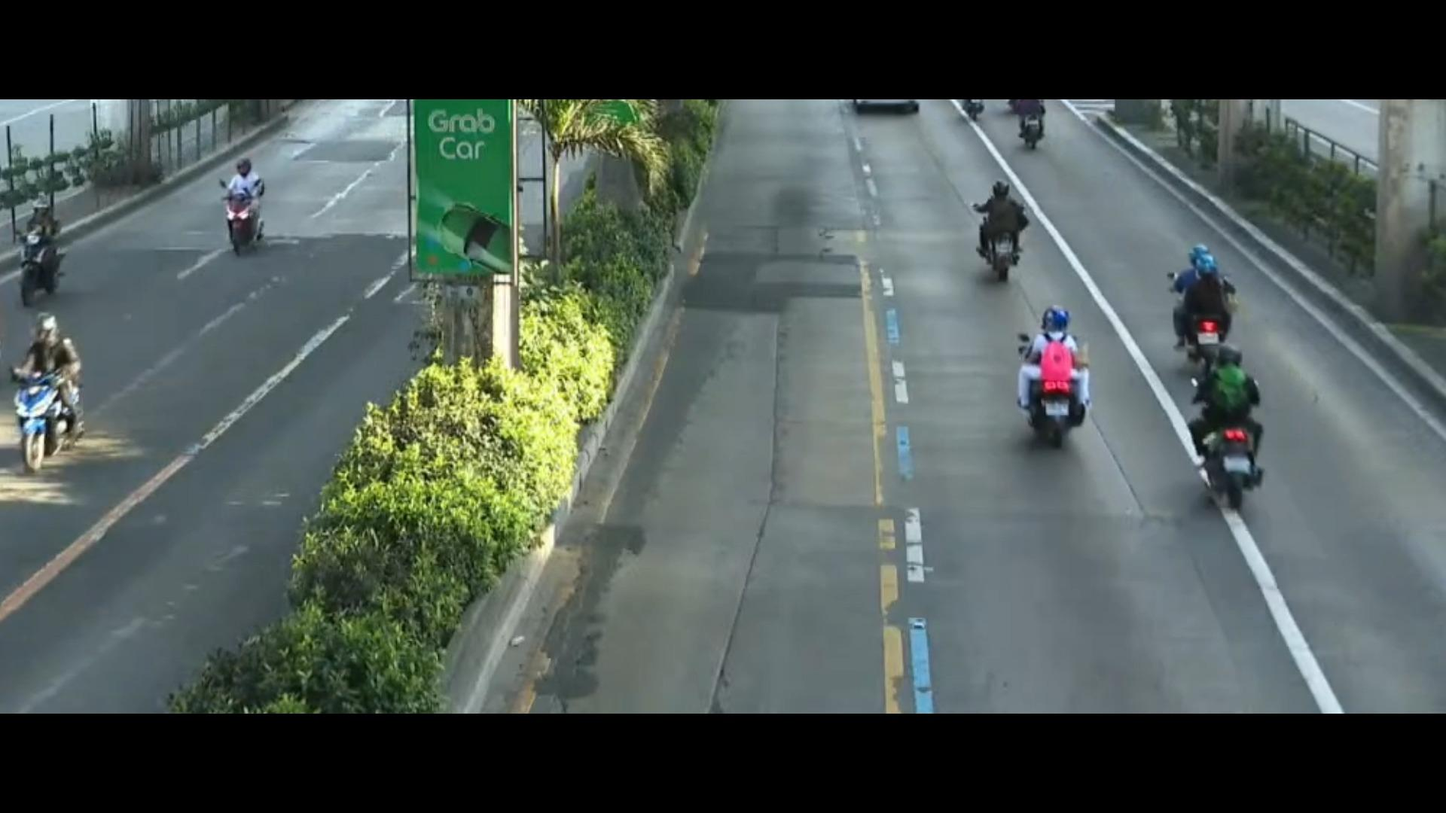Motorcycle: (968, 286, 1128, 471), (1149, 232, 1279, 378), (1178, 333, 1284, 504), (0, 317, 89, 478), (974, 160, 1038, 295), (208, 149, 273, 278), (13, 172, 70, 316)
